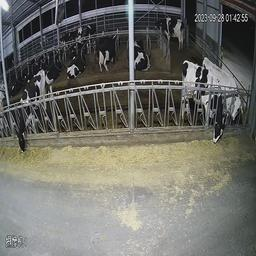cow: (178, 55, 224, 153), (15, 65, 51, 156), (201, 49, 243, 126), (155, 11, 187, 54), (95, 30, 122, 72), (64, 41, 89, 81), (134, 35, 153, 74), (46, 52, 62, 85), (67, 18, 84, 39)
